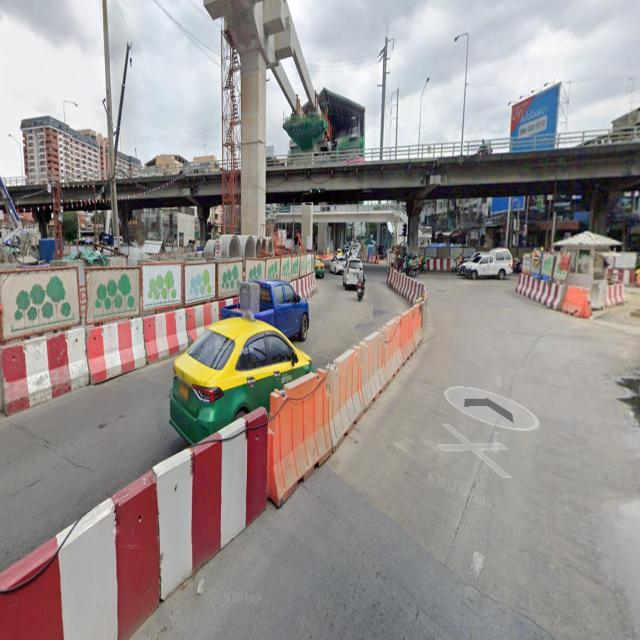fallen_object: (0, 410, 265, 635), (226, 325, 342, 493), (3, 319, 128, 408), (322, 313, 411, 435), (70, 299, 218, 369), (500, 262, 629, 327), (369, 272, 446, 346)
